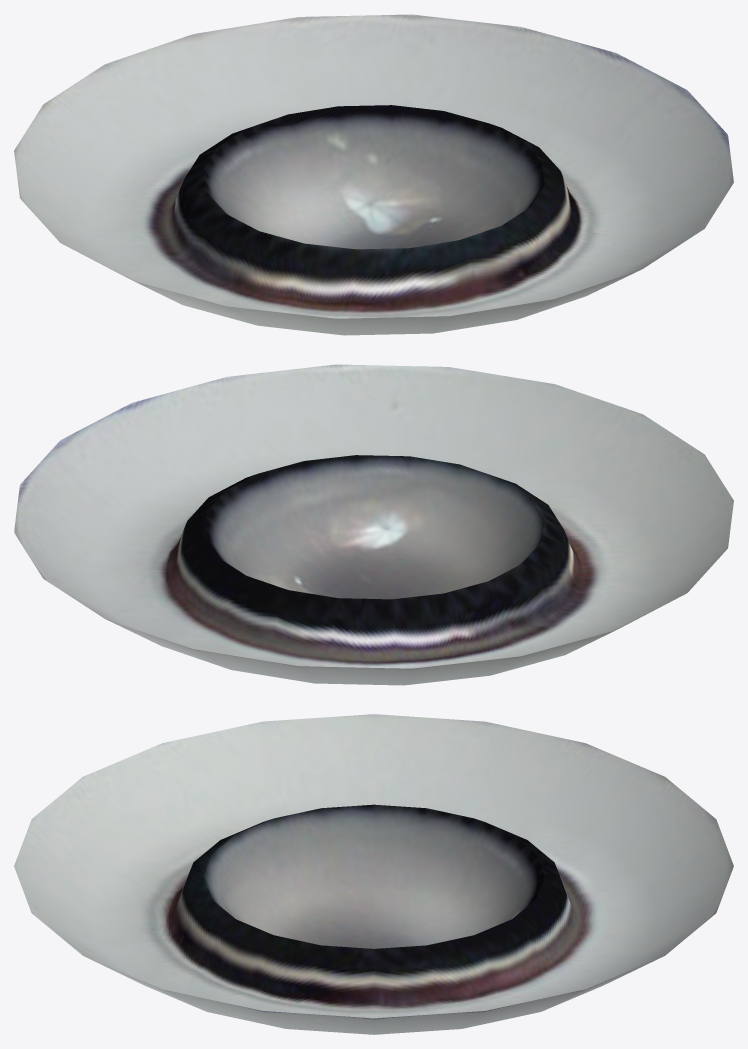
File: Light_spot.FBX
The picture shows the model from 3 angles, top to bottom: view 1: azimuth 30°, elevation 25°; view 2: azimuth 150°, elevation 25°; view 3: azimuth 270°, elevation 25°; orthographic projection.
Parts seen in each view (by area): view 1: Light_spot; view 2: Light_spot; view 3: Light_spot.
Boxes of the visible parts, x1=… form: Light_spot: x1=14, y1=14, x2=733, y2=335; Light_spot: x1=14, y1=364, x2=733, y2=685; Light_spot: x1=14, y1=714, x2=733, y2=1034.
Bounding box in the file's own units: 6.69 × 0.9499 × 6.69.
